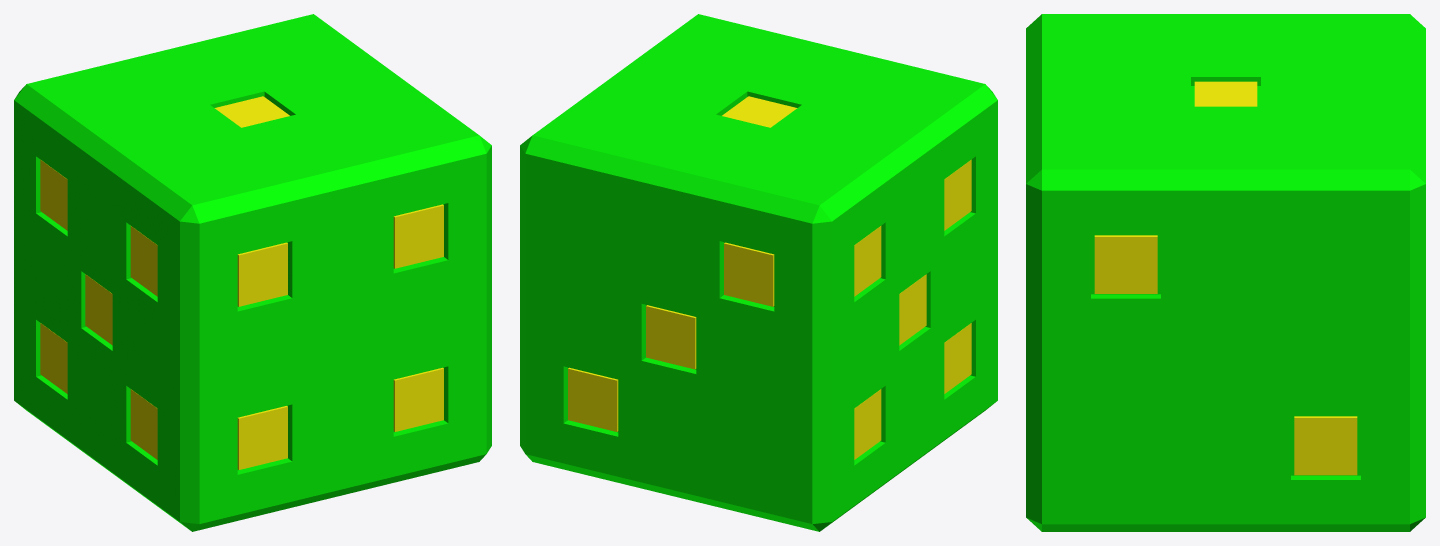
Rendered from 2_gold_dice_green.gltf.
The picture shows the model from 3 angles, left to right: view 1: azimuth 30°, elevation 25°; view 2: azimuth 150°, elevation 25°; view 3: azimuth 270°, elevation 25°; orthographic projection. The views are drawn at different scales.
Parts seen in each view (by area): view 1: D6_Dice_Green; view 2: D6_Dice_Green; view 3: D6_Dice_Green.
Boxes of the visible parts, x1,y1,x2,y2 form: D6_Dice_Green: (14,14,491,531); D6_Dice_Green: (520,14,997,531); D6_Dice_Green: (1026,14,1425,531).
Bounding box in the file's own units: 2 × 2 × 2.
